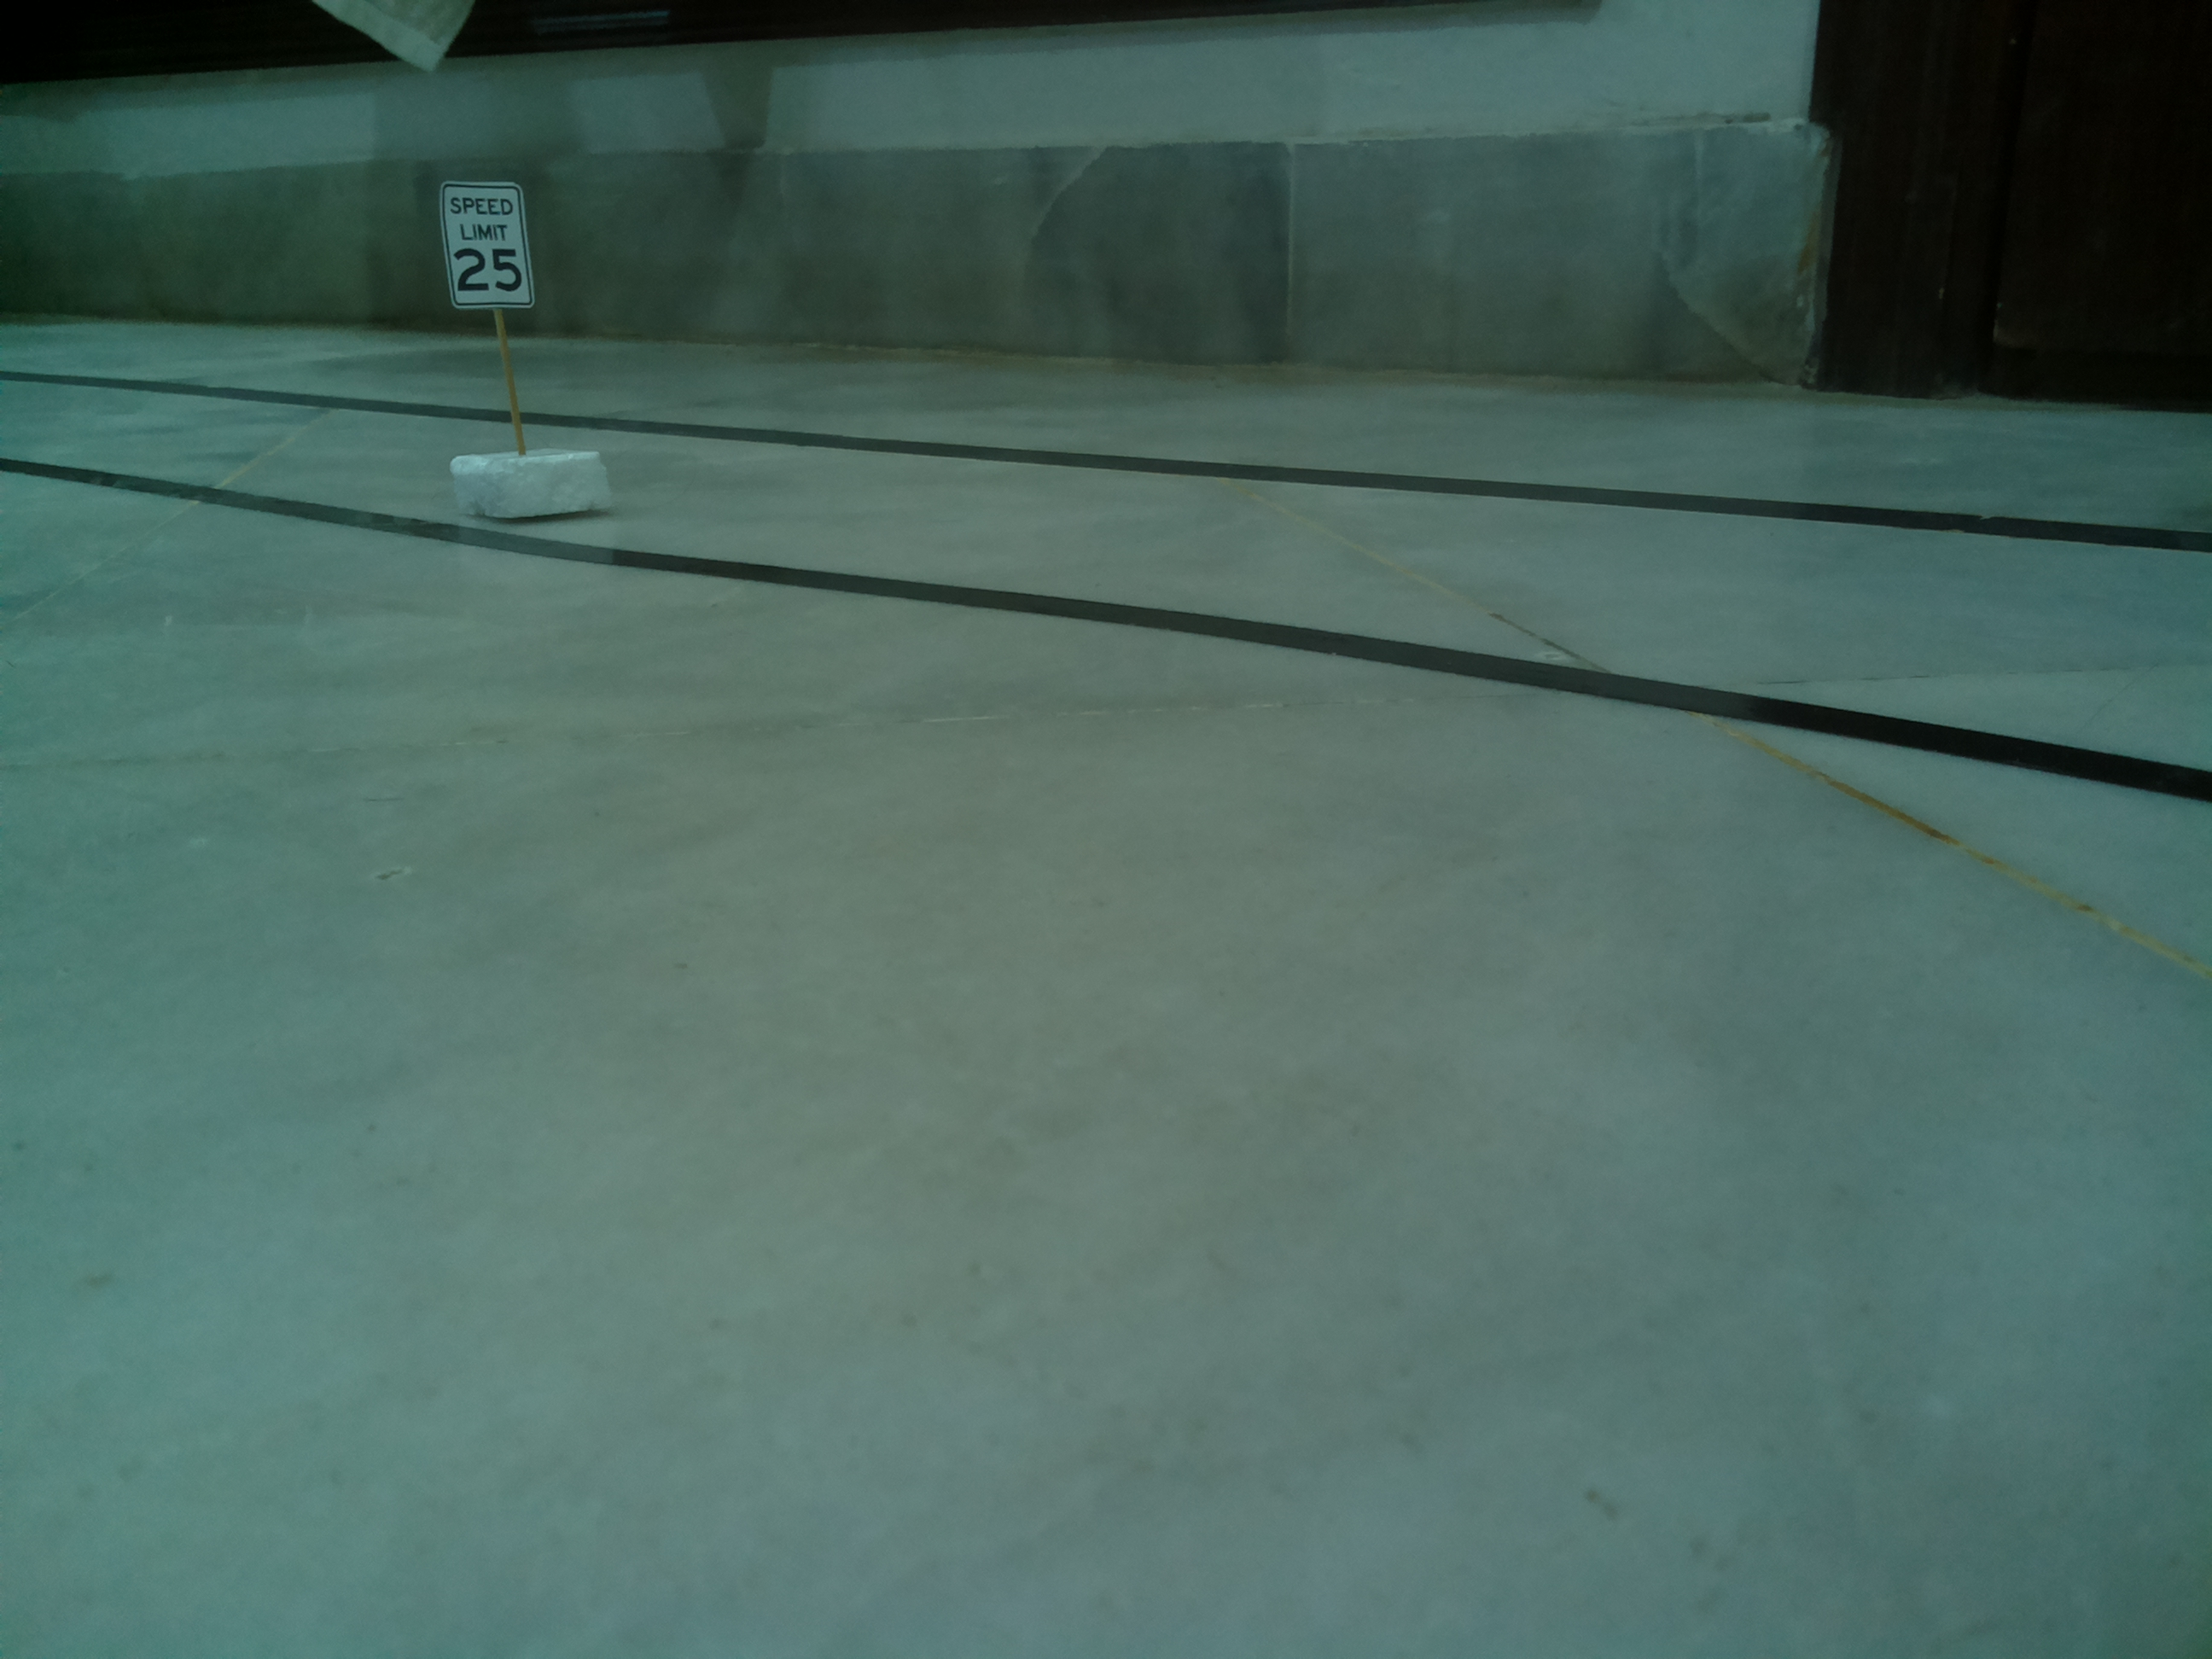Speed limit 25: (428, 173, 545, 315)
